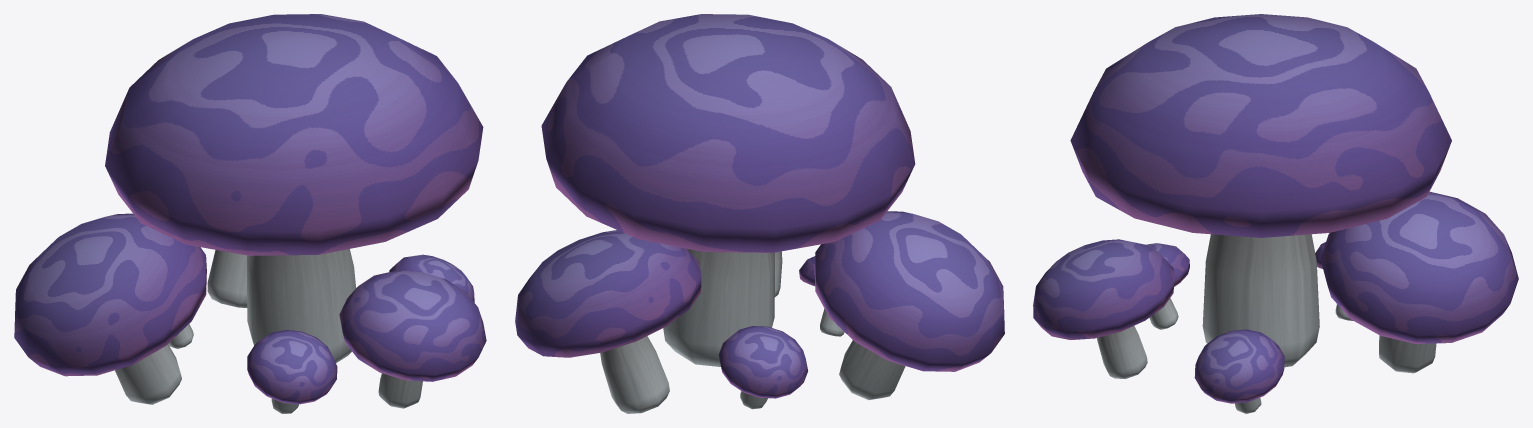
The model's file is VEG0110012.fbx.
The picture shows the model from 3 angles, left to right: view 1: azimuth 30°, elevation 25°; view 2: azimuth 150°, elevation 25°; view 3: azimuth 270°, elevation 25°; orthographic projection.
Parts seen in each view (by area): view 1: smVEG0110012; view 2: smVEG0110012; view 3: smVEG0110012.
Boxes of the visible parts, x1,y1,x2,y2 form: smVEG0110012: (14, 14, 486, 413); smVEG0110012: (515, 14, 1004, 413); smVEG0110012: (1033, 14, 1518, 413).
Bounding box in the file's own units: 63.38 × 45.17 × 61.79.
1 material, 1 textured.
